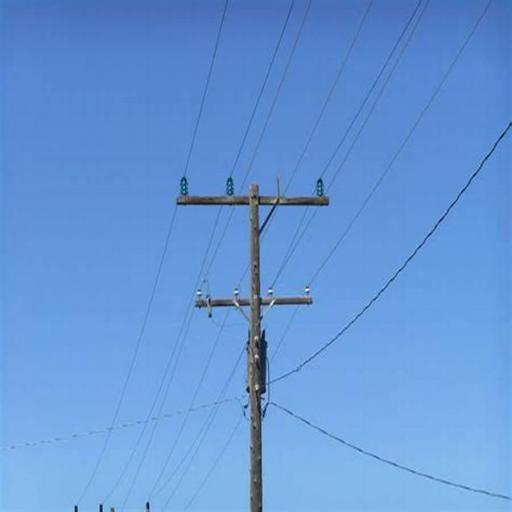mono_8: (174, 173, 330, 510)
